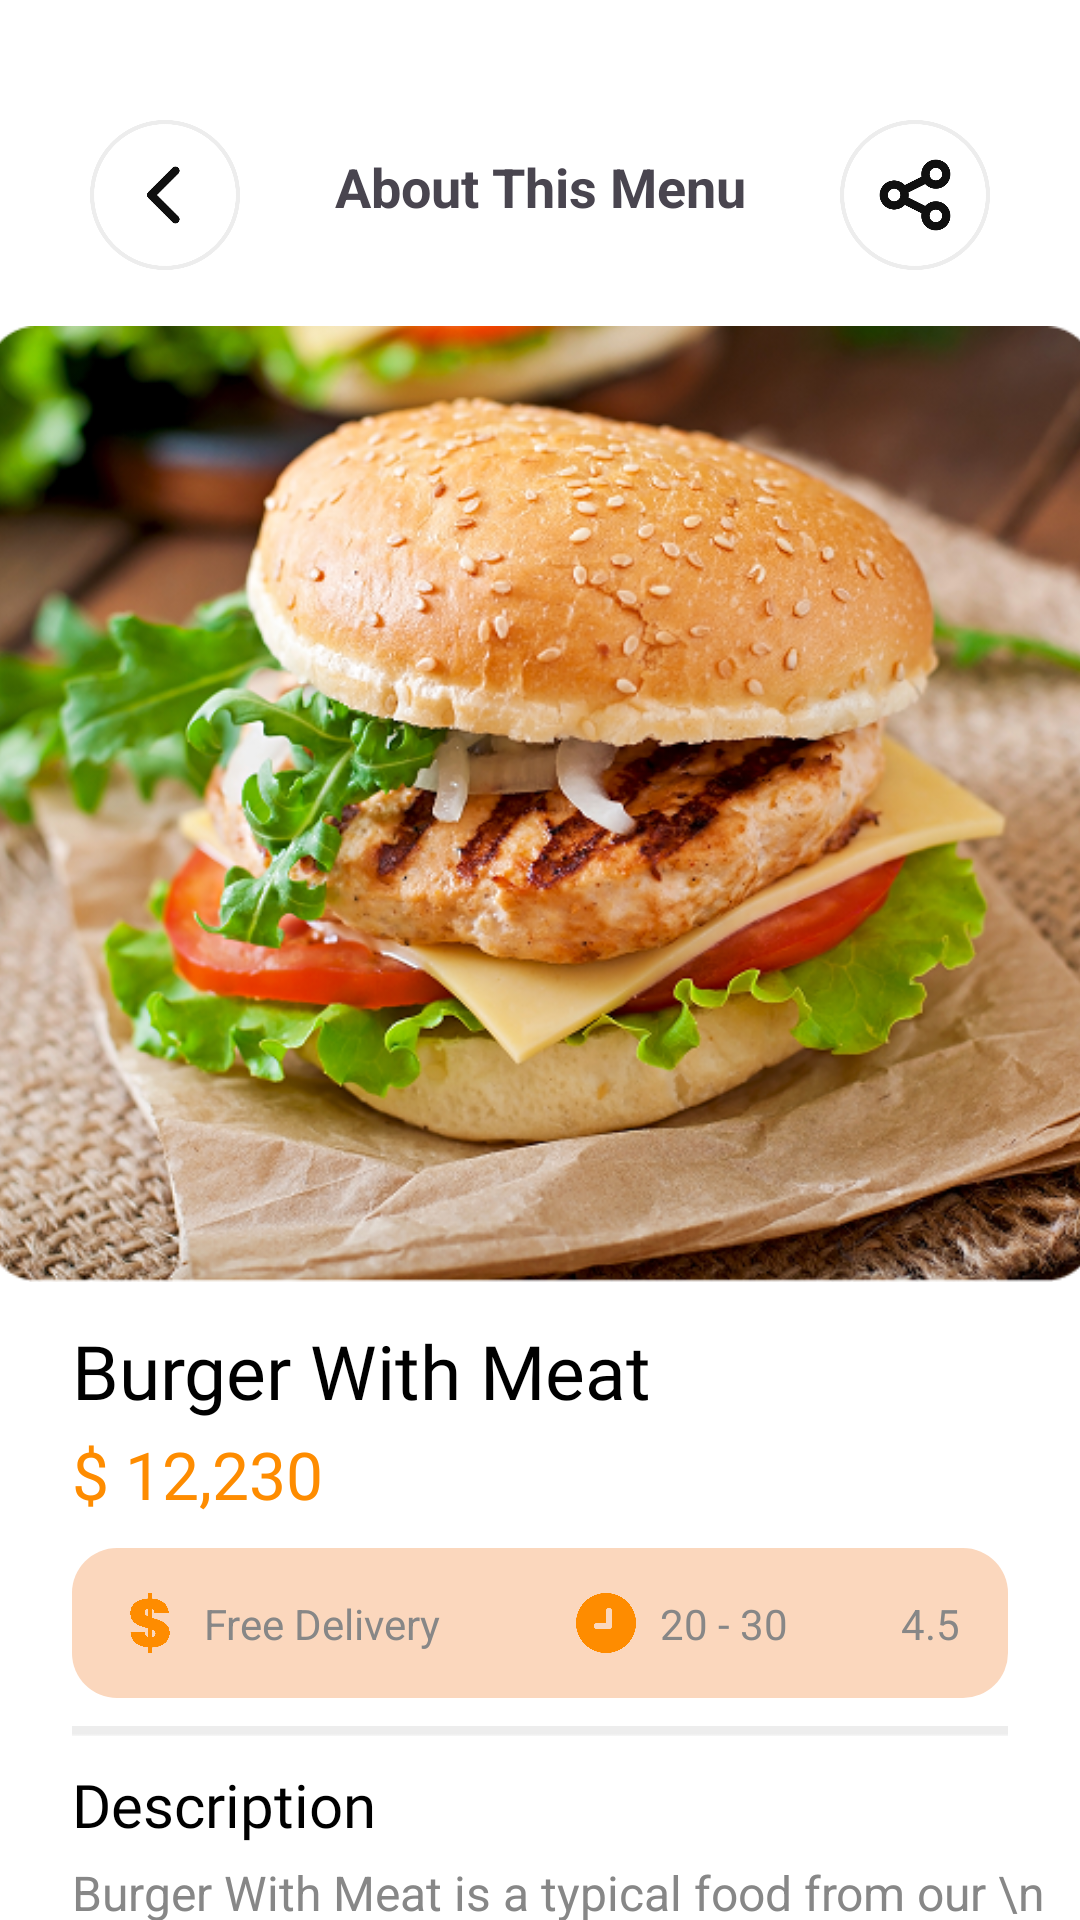

Screen size 1080*1920. Icon name, then its box in pixels as {"left": x1, "top": y1, "right": x2, "bottom": y2}:
back: {"left": 147, "top": 166, "right": 180, "bottom": 224}
time: {"left": 576, "top": 1593, "right": 636, "bottom": 1653}
